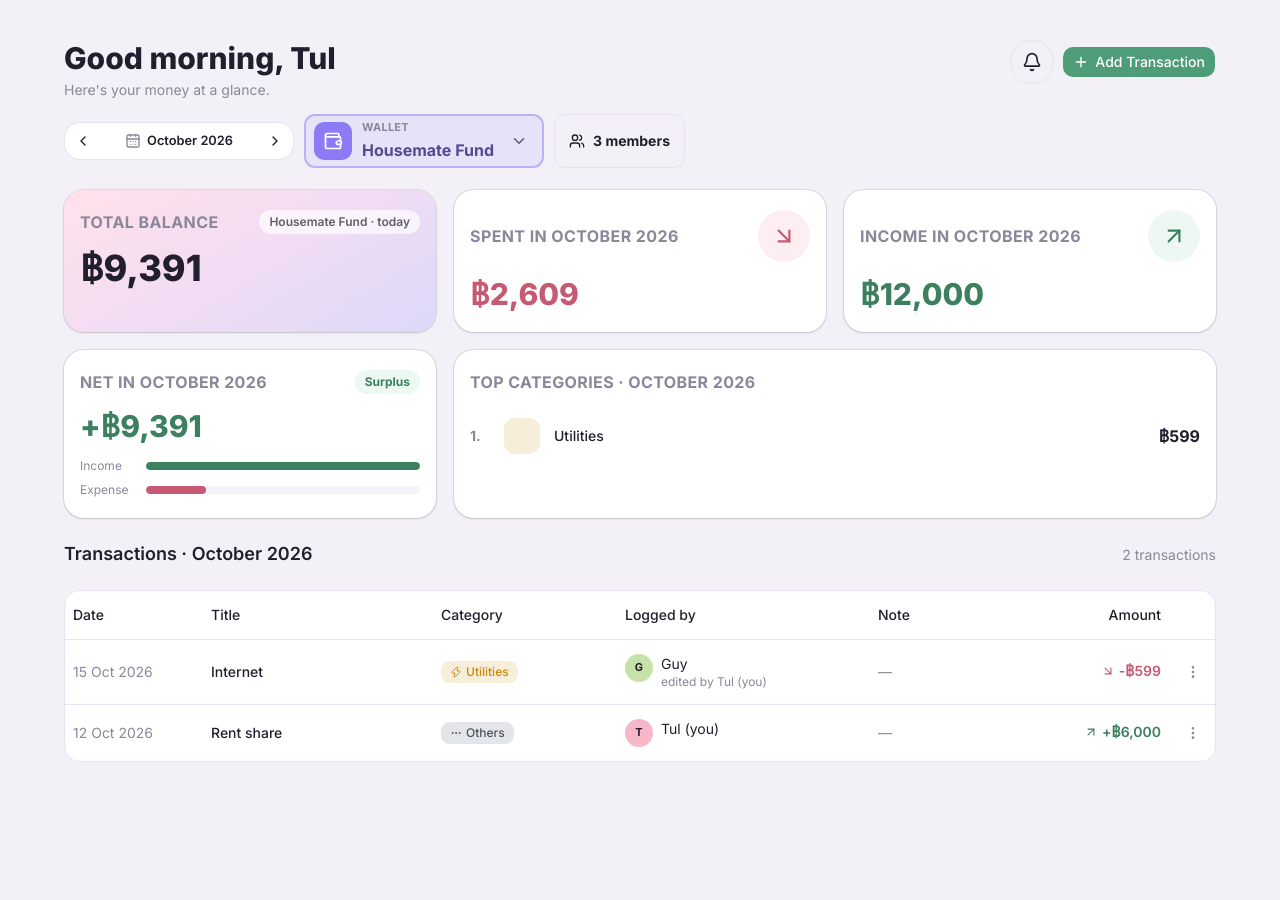
it: Home — a shared wallet selected › shows the member count and opens the Members dialog from it
Click the button "3 members".
click(620, 141)  # box 554,114 -> 685,168
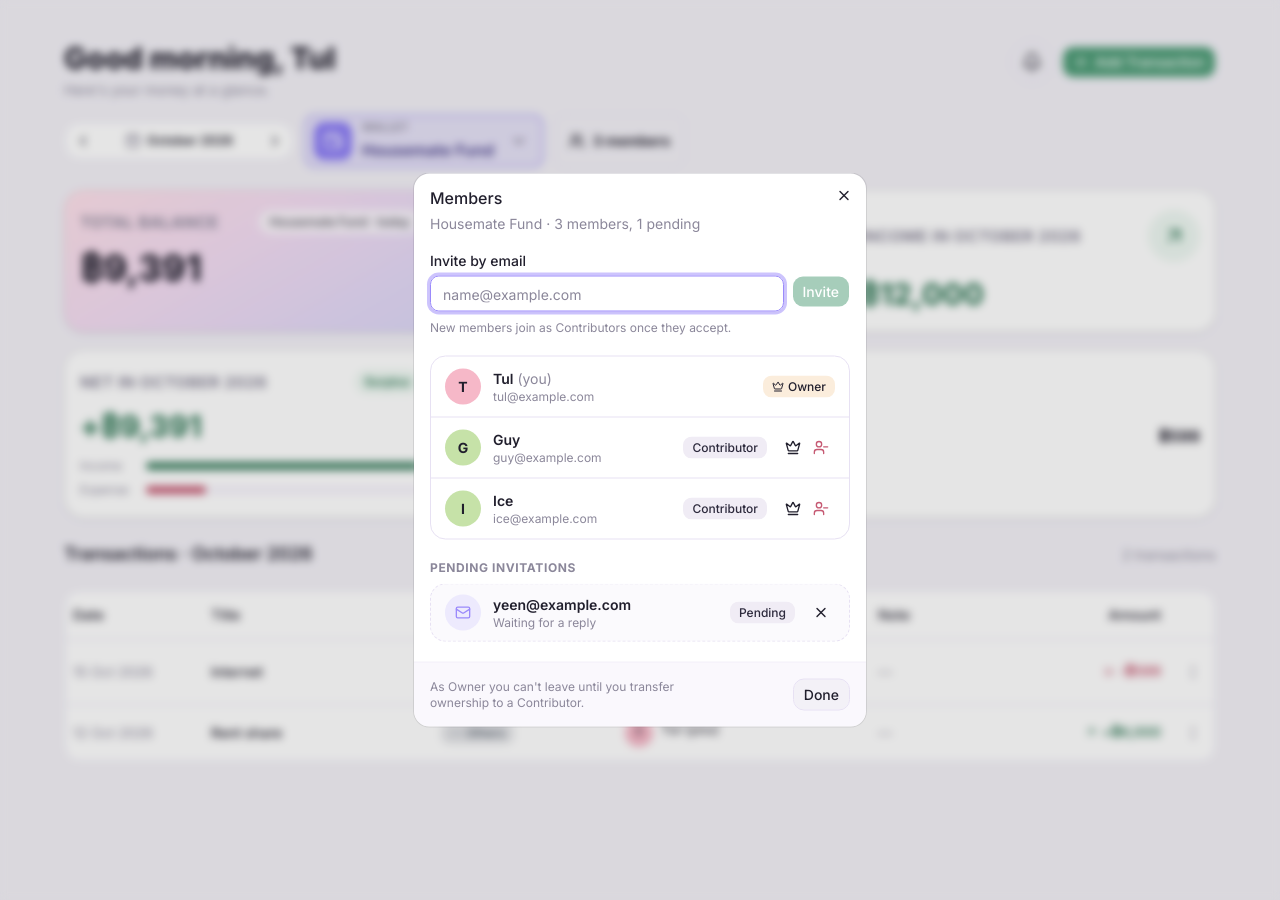
Result: the heading "Members" is shown at 430,188 -> 502,208
Result: the text "Housemate Fund · 3 members, 1 pending" is shown at 430,214 -> 700,232
